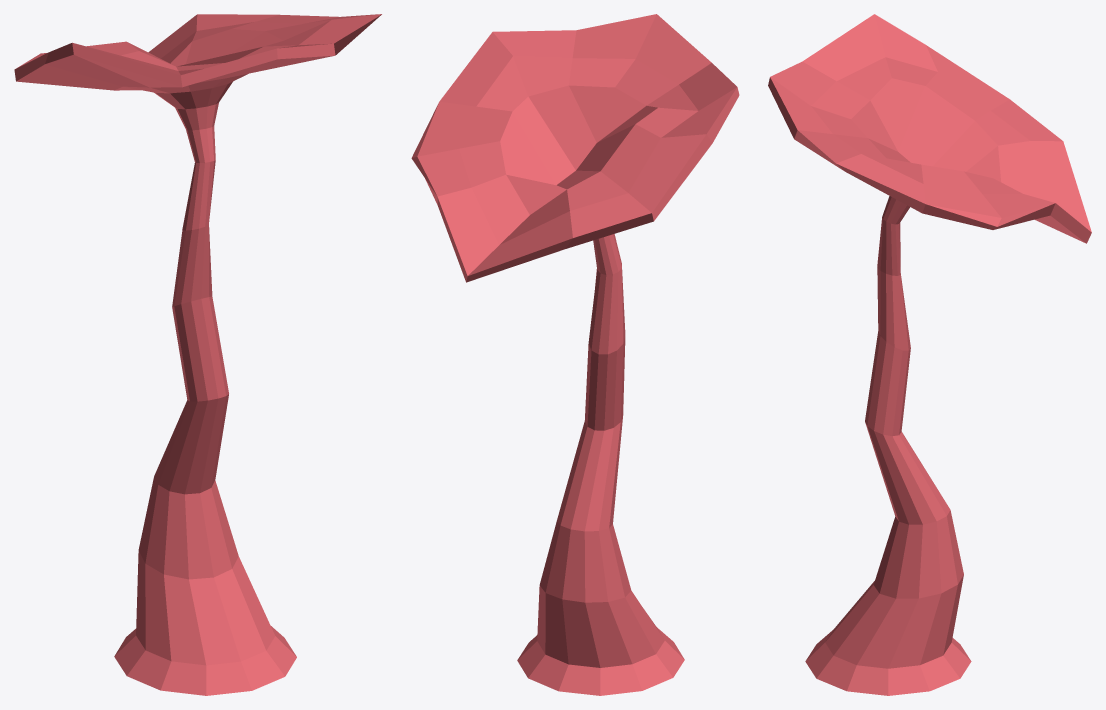
Rendered from Planta alien 1.fbx.
3 renders of one model, left to right at view 1: azimuth 30°, elevation 25°; view 2: azimuth 150°, elevation 25°; view 3: azimuth 270°, elevation 25°, orthographic. The views are drawn at different scales.
Visible parts, largest first — view 1: Planta alien 1; view 2: Planta alien 1; view 3: Planta alien 1.
Part boxes in pixels (<box>): Planta alien 1: <box>14,14,381,695</box>; Planta alien 1: <box>411,14,739,695</box>; Planta alien 1: <box>768,14,1091,695</box>.
Size of the model in its own units: 370 by 780 by 390.
